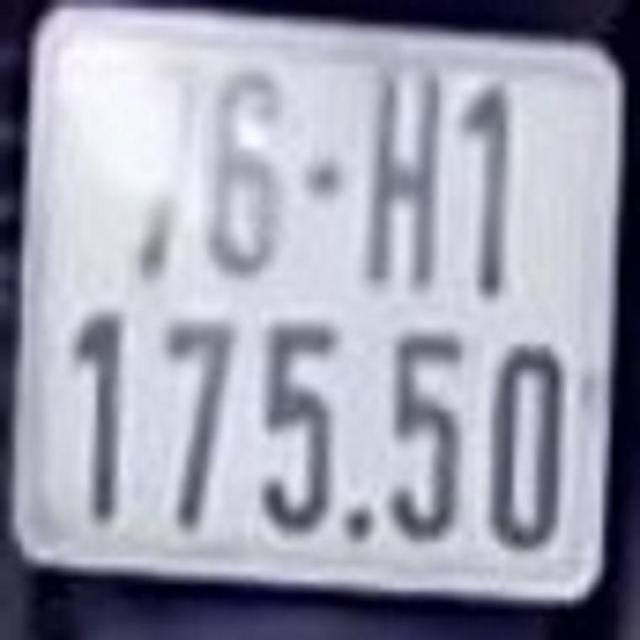0: (491, 332, 561, 558)
1: (453, 73, 517, 304), (68, 308, 136, 524)
5: (261, 314, 334, 533), (394, 322, 463, 544)
6: (208, 52, 284, 282)
7: (127, 48, 201, 278), (160, 312, 233, 522)
H: (366, 70, 442, 292)
